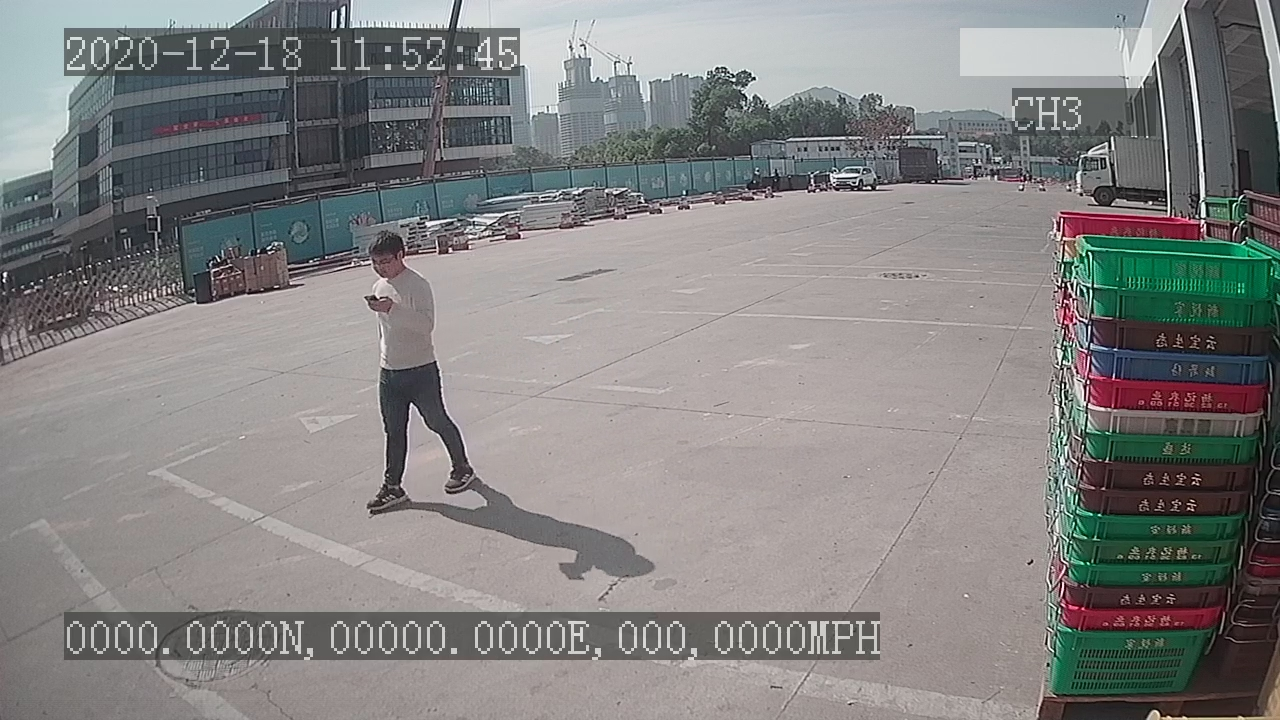person: (349, 227, 476, 517)
